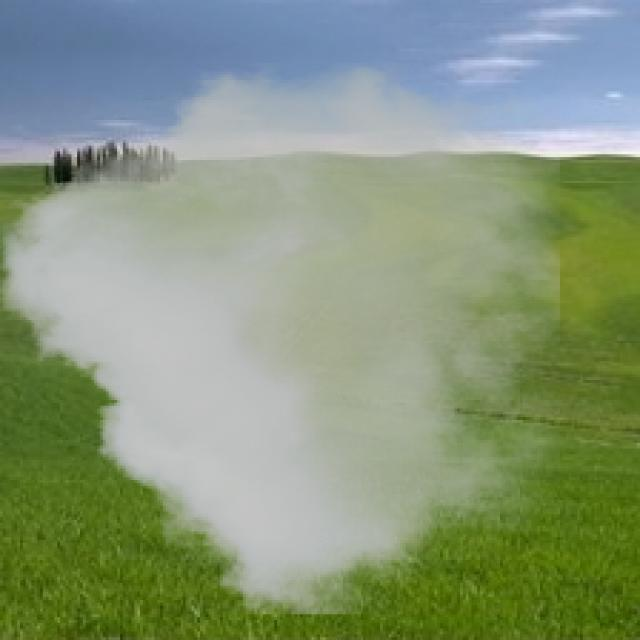smoke: (0, 63, 560, 614)
